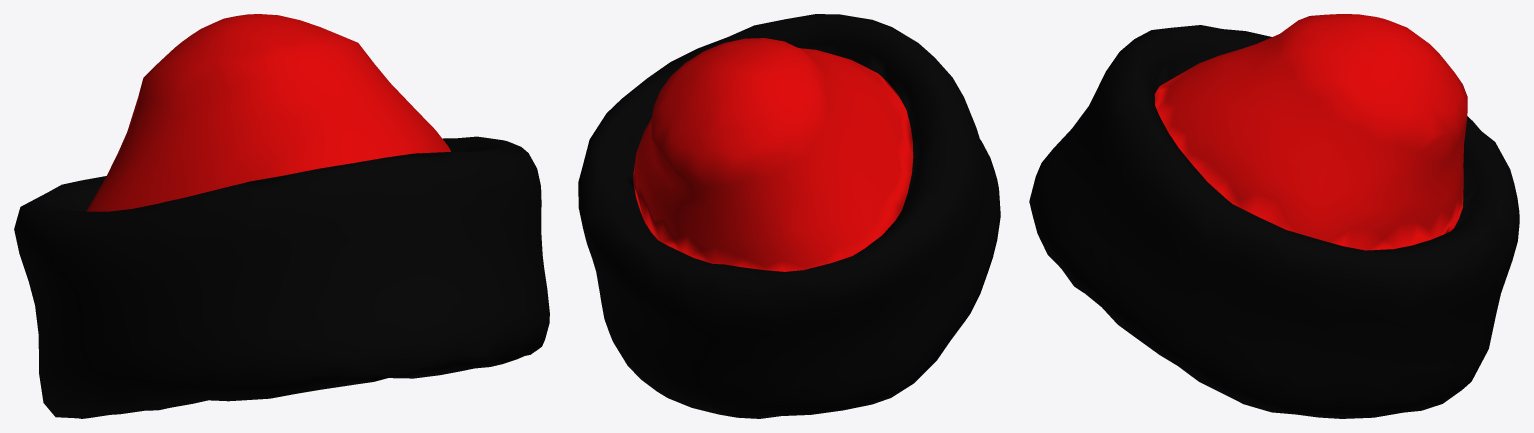
File: outfit_fur_hat.glb
The picture shows the model from 3 angles, left to right: view 1: azimuth 30°, elevation 25°; view 2: azimuth 150°, elevation 25°; view 3: azimuth 270°, elevation 25°; orthographic projection. The views are drawn at different scales.
Visible parts, largest first — view 1: outfit_fur_hat; view 2: outfit_fur_hat; view 3: outfit_fur_hat.
Boxes of the visible parts, x1=… form: outfit_fur_hat: x1=14, y1=14, x2=549, y2=418; outfit_fur_hat: x1=578, y1=14, x2=1000, y2=418; outfit_fur_hat: x1=1029, y1=14, x2=1519, y2=418.
Size of the model in its own units: 0.3636 by 0.3 by 0.3849.
